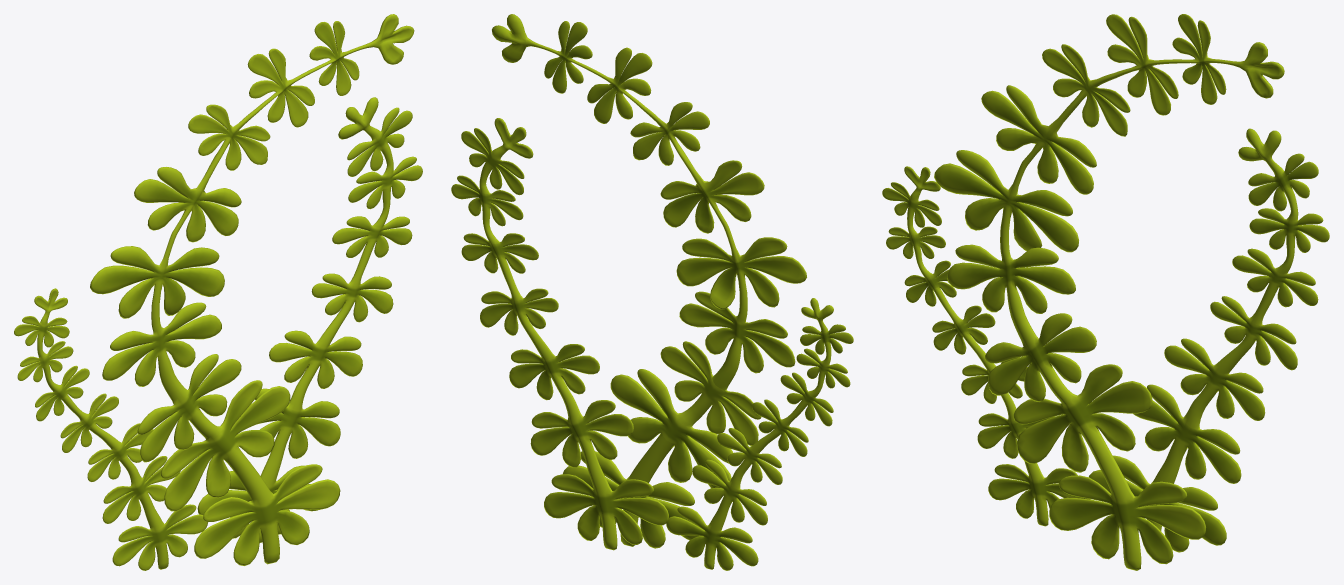
Rendered from Seaweed_Floral.FBX.
3 renders of one model, left to right at view 1: azimuth 30°, elevation 25°; view 2: azimuth 150°, elevation 25°; view 3: azimuth 330°, elevation 25°, orthographic. The views are drawn at different scales.
Visible parts, largest first — view 1: Clover; view 2: Clover; view 3: Clover.
Part boxes in pixels (x1=…): Clover: x1=14, y1=14, x2=422, y2=570; Clover: x1=451, y1=14, x2=853, y2=570; Clover: x1=882, y1=14, x2=1329, y2=570.
Bounding box in the file's own units: 7.89 × 9.68 × 0.7543.
